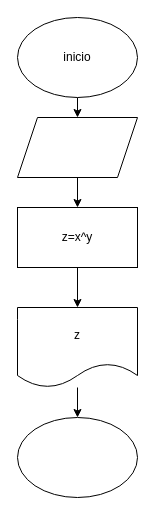
Some shapes in this 155 by 515 pixel diagram are drawn without their labels. The centre of each missing label's shape, as x and y in pixels:
"fin" goes at point (77, 457).
"x,y" goes at point (77, 147).
